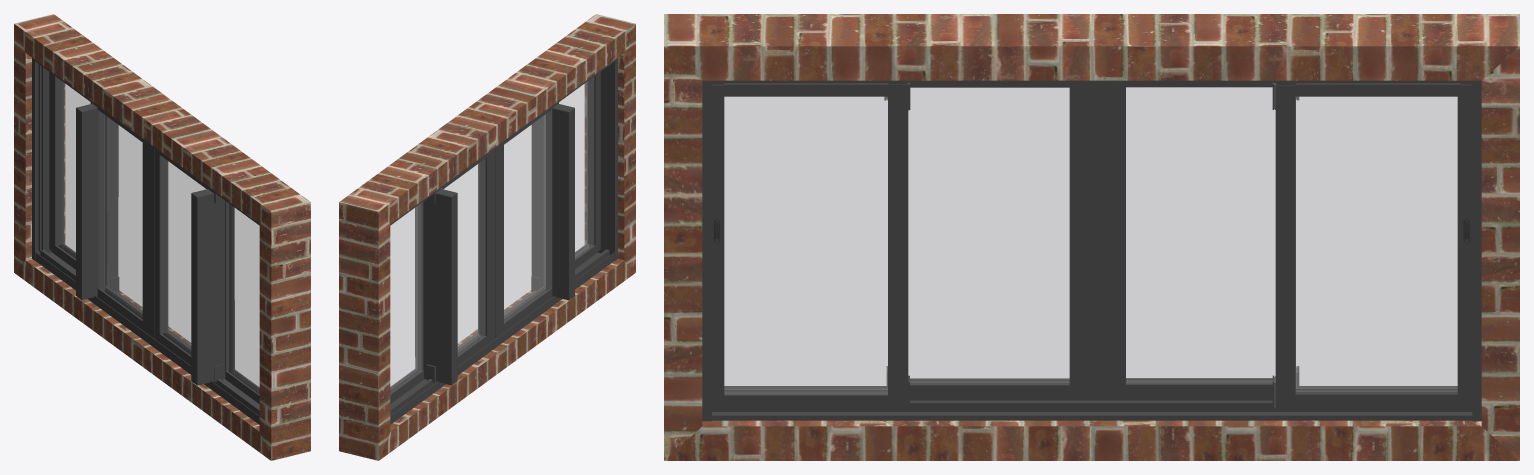
File: Window_wow_variant_01.gltf
The picture shows the model from 3 angles, left to right: view 1: azimuth 30°, elevation 25°; view 2: azimuth 150°, elevation 25°; view 3: azimuth 270°, elevation 25°; orthographic projection. The views are drawn at different scales.
Visible parts, largest first — view 1: Window_frame.002, Window_panel_04.002, Window_panel_01.002, Window_panel_03.002, Window_rail.002, Window_panel_02.002; view 2: Window_frame.002, Window_panel_01.002, Window_panel_04.002, Window_panel_02.002, Window_rail.002, Window_panel_03.002; view 3: Window_frame.002, Window_panel_04.002, Window_panel_01.002, Window_panel_02.002, Window_panel_03.002, Window_rail.002.
Boxes of the visible parts, x1,y1,x2,y2 form: Window_frame.002: (14, 14, 310, 460); Window_panel_04.002: (49, 72, 119, 299); Window_panel_01.002: (191, 188, 259, 403); Window_panel_03.002: (97, 107, 149, 334); Window_rail.002: (32, 58, 259, 424); Window_panel_02.002: (154, 149, 207, 364); Window_frame.002: (339, 14, 635, 460); Window_panel_01.002: (531, 72, 600, 300); Window_panel_04.002: (390, 189, 457, 403); Window_panel_02.002: (500, 107, 552, 334); Window_rail.002: (390, 58, 617, 424); Window_panel_03.002: (441, 149, 494, 365); Window_frame.002: (664, 14, 1519, 460); Window_panel_04.002: (1272, 82, 1472, 408); Window_panel_01.002: (712, 82, 910, 408); Window_panel_02.002: (908, 85, 1084, 398); Window_panel_03.002: (1099, 85, 1275, 398); Window_rail.002: (702, 80, 1481, 421).
Size of the model in its own units: 0.5042 by 2.59 by 4.85.
Materials: 5 (2 with a texture image).
